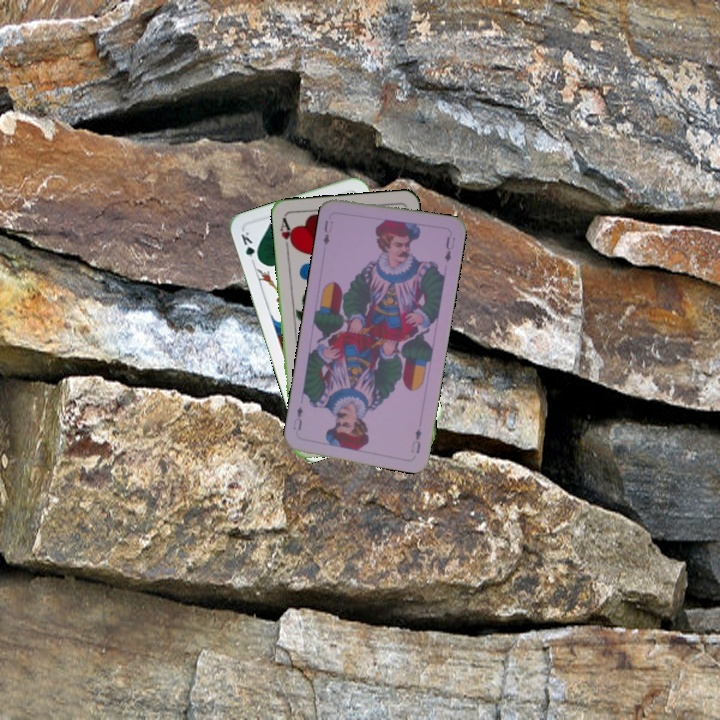EU: (319, 216, 336, 248), (407, 425, 424, 456)
GK: (237, 228, 262, 267)
HA: (276, 214, 297, 254)
